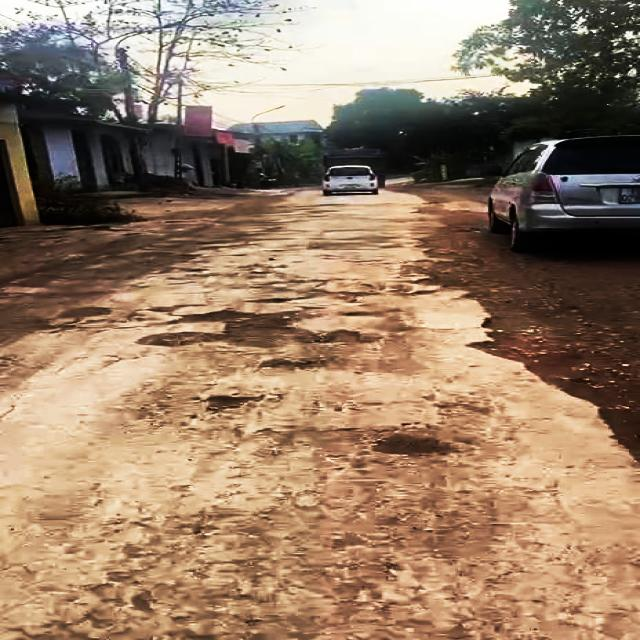pothole: (465, 315, 615, 407), (138, 302, 372, 349), (189, 387, 268, 417), (52, 307, 110, 322)
